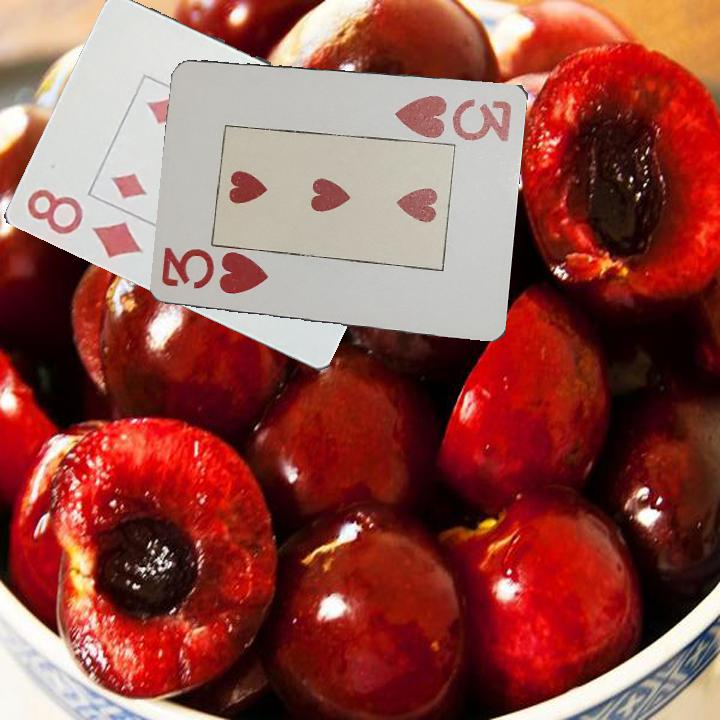3h: (391, 91, 515, 144), (159, 246, 272, 297)
8d: (22, 184, 145, 262)
